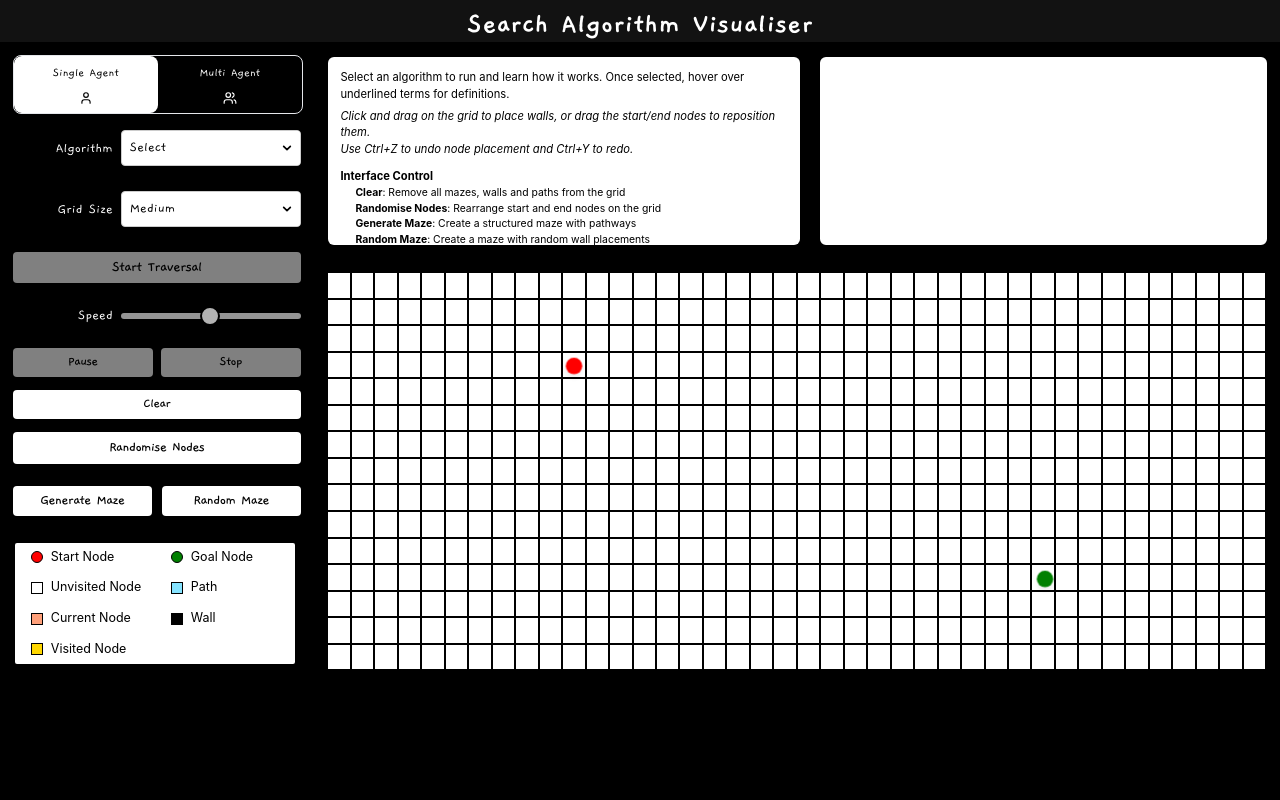
Test: Algorithm Visualizer › selects algorithm from dropdown with proper state handling
The image size is (1280, 800).
Expected: the header with id "app-header" is shown, [0, 0, 1279, 42]
Select "Breadth First Search" in the dropdown with id "algorithm". click: (211, 148)
box: [121, 130, 301, 166]
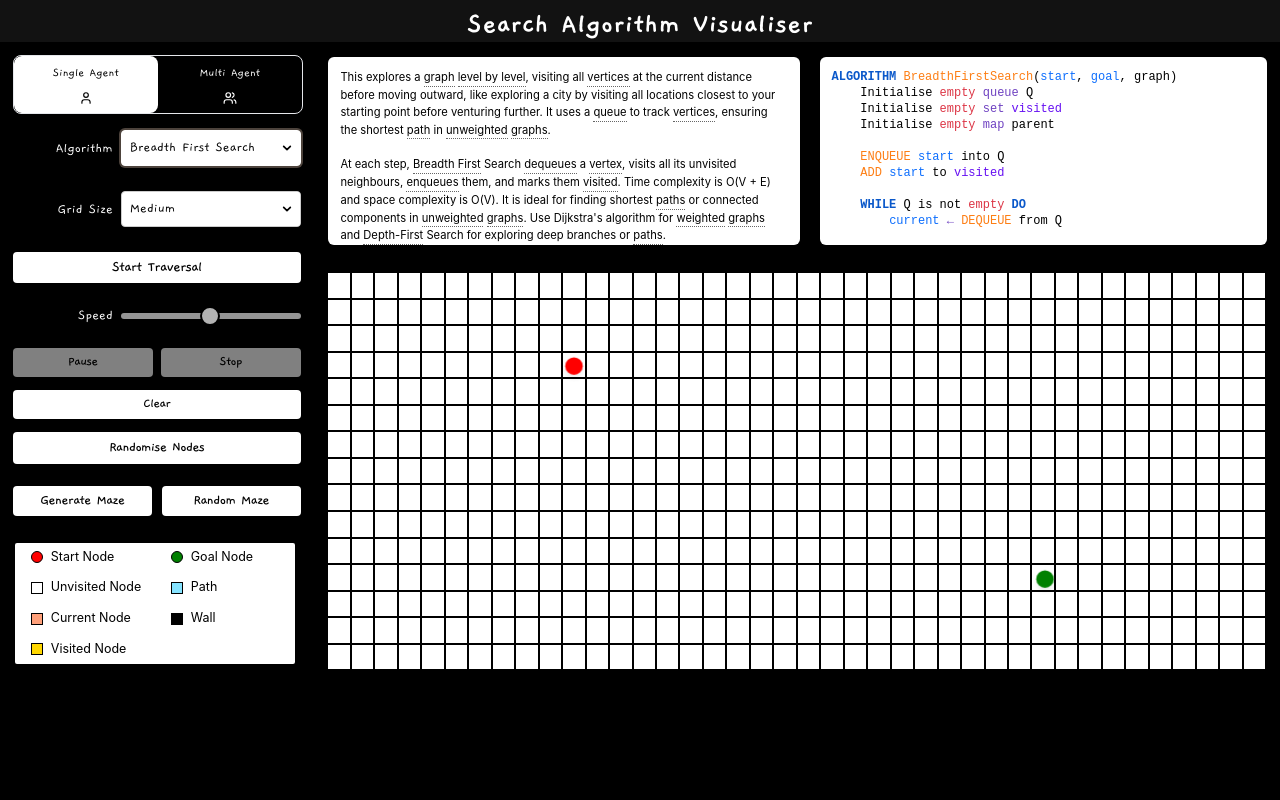
Expected: the element showing "Breadth First" is shown, [413, 156, 481, 174]
